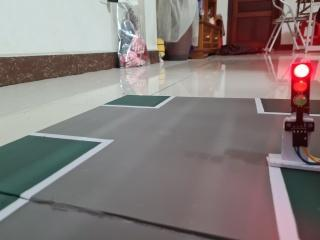red: (284, 57, 316, 120)
